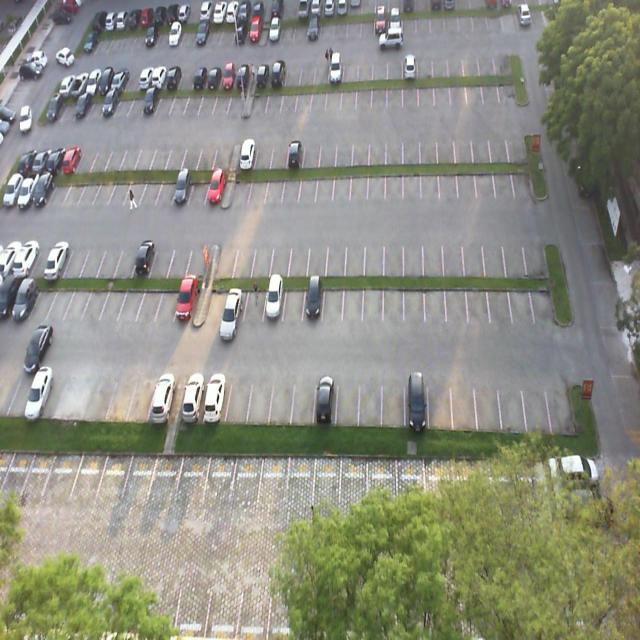empty: (94, 444, 132, 502), (123, 442, 157, 501), (43, 444, 79, 498), (70, 446, 106, 500), (148, 444, 182, 499), (544, 370, 576, 426), (232, 451, 265, 504), (175, 445, 209, 496), (204, 448, 238, 499), (223, 370, 254, 424), (259, 448, 291, 500), (312, 451, 342, 506), (21, 446, 55, 494), (499, 373, 527, 431), (65, 367, 94, 421), (523, 370, 549, 428), (117, 271, 145, 323), (476, 372, 502, 428), (82, 370, 111, 420), (288, 449, 314, 504), (136, 267, 162, 321), (428, 375, 454, 429), (106, 371, 134, 421), (452, 374, 478, 427), (268, 373, 294, 425), (153, 274, 180, 324), (127, 370, 153, 420), (246, 372, 272, 422), (531, 270, 558, 318), (359, 370, 382, 426), (101, 270, 125, 321), (240, 274, 264, 324), (334, 372, 358, 422), (290, 372, 313, 424), (486, 273, 511, 320), (382, 371, 404, 423), (442, 226, 466, 273), (483, 227, 507, 274), (205, 273, 225, 327), (113, 238, 140, 276), (505, 227, 527, 273), (148, 236, 172, 278), (525, 229, 548, 272), (509, 276, 531, 320), (444, 277, 467, 319), (424, 228, 444, 276), (282, 276, 302, 324), (169, 238, 194, 276), (155, 165, 177, 207), (188, 164, 210, 206), (139, 164, 162, 204), (511, 156, 534, 196), (404, 226, 424, 272), (322, 277, 342, 323), (404, 274, 424, 320), (426, 276, 446, 322), (468, 274, 488, 320), (189, 240, 213, 278), (230, 163, 252, 204), (382, 231, 404, 272), (464, 228, 484, 273), (363, 278, 383, 323), (287, 234, 309, 274), (344, 231, 364, 275), (384, 276, 403, 322), (229, 238, 251, 276), (213, 239, 235, 276), (251, 235, 273, 272), (268, 236, 290, 273), (345, 275, 362, 321), (307, 234, 327, 273), (324, 235, 344, 273), (282, 163, 300, 204), (364, 235, 383, 273), (478, 158, 496, 198), (458, 162, 478, 197), (494, 160, 514, 195), (299, 166, 317, 204), (368, 162, 386, 200), (250, 166, 268, 203), (332, 165, 350, 202), (267, 166, 283, 207), (403, 163, 421, 197), (422, 163, 440, 197), (440, 162, 458, 194), (388, 162, 403, 200), (316, 166, 332, 201), (351, 164, 367, 198)
occupied: (222, 272, 248, 325), (312, 372, 336, 428), (203, 368, 229, 418), (262, 270, 286, 324), (148, 374, 175, 422), (405, 374, 429, 427), (174, 272, 198, 324), (181, 373, 206, 419), (131, 236, 157, 276), (303, 276, 324, 324), (172, 165, 194, 207), (204, 166, 226, 206)
